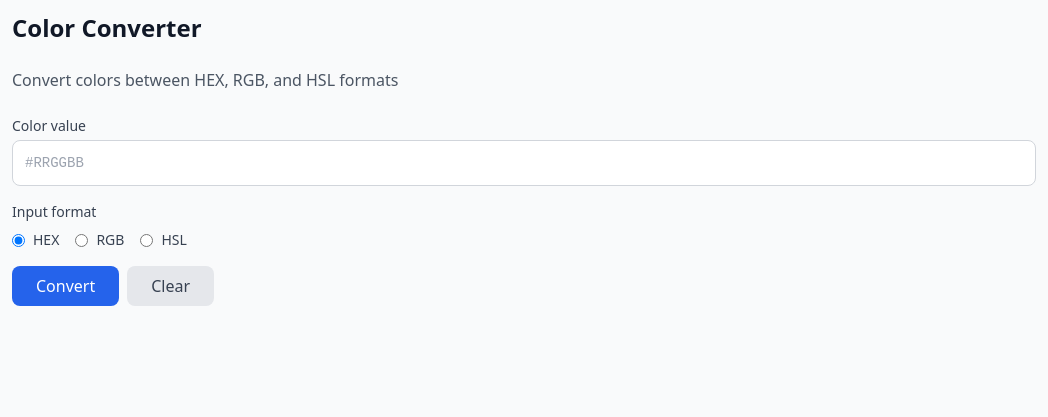
Test: ColorConverter › shows error for invalid HEX
Type "invalid" into the field with placeholder "#RRGGBB" at (524, 163), box [12,140,1036,186]
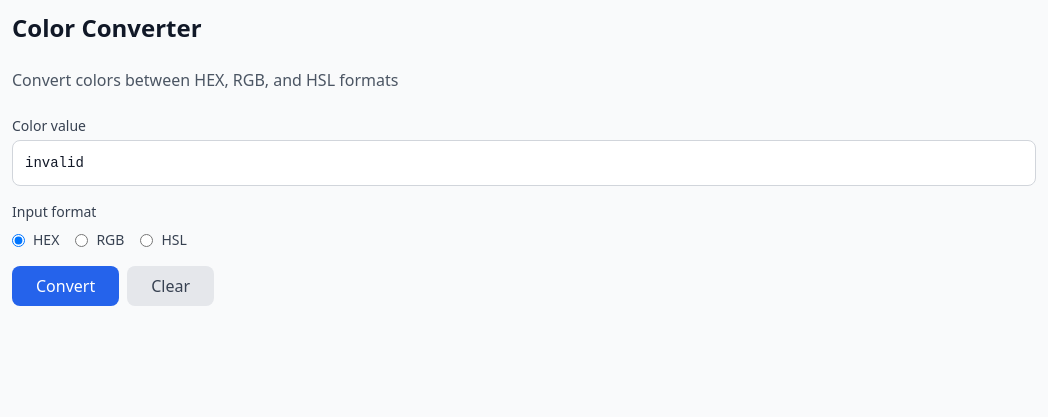
Click the button "Convert" at (66, 286), box [12,266,119,306]
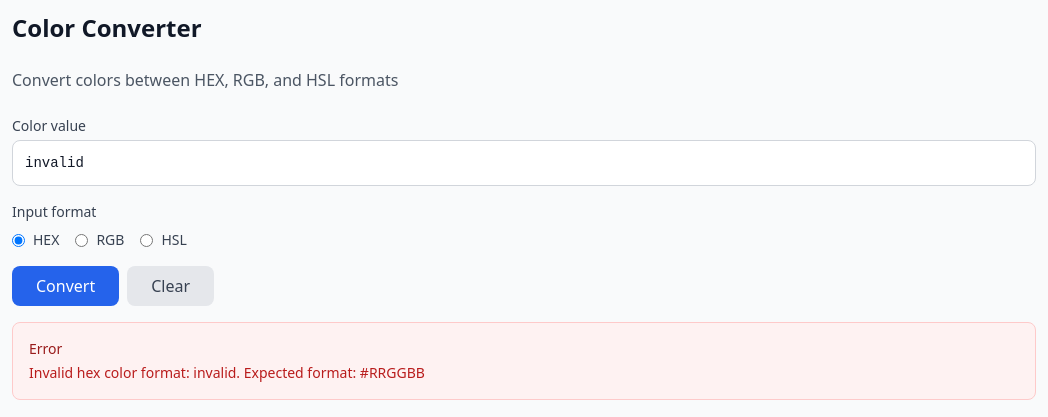
Check: the text "Invalid hex color format: invalid. Expected format: #RRGGBB" is shown, box [29,363,425,382]
